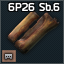AKS-74U wooden handguard 6P26 Sb.6: (0, 0, 64, 64)
